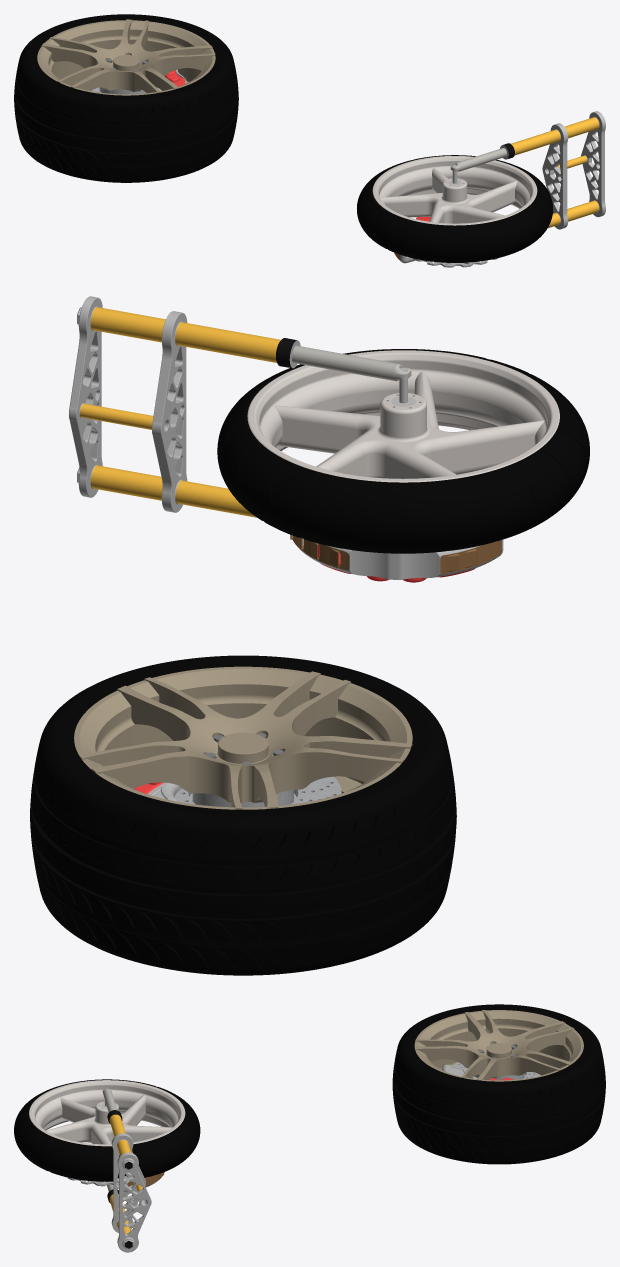
3 renders of one model, top to bottom at view 1: azimuth 30°, elevation 25°; view 2: azimuth 150°, elevation 25°; view 3: azimuth 270°, elevation 25°, orthographic. The views are drawn at different scales.
Visible parts, largest first — view 1: mesh_29_instance_0, f5931b2d-6b37-47ed-9786-adccfeb20e5e, mesh_30_instance_0, 41e6321a-a9ee-49ff-a9fd-625032fe2096; view 2: mesh_29_instance_0, f5931b2d-6b37-47ed-9786-adccfeb20e5e, mesh_30_instance_0, 41e6321a-a9ee-49ff-a9fd-625032fe2096, 6046186d-a965-4a3a-9ae2-bdf7fab2823f, mesh_17_instance_0, 95139e69-7985-4f4e-8ac2-70dadb87f658, 4c1a7346-86db-4c4c-add3-331c59ebb05a; view 3: mesh_29_instance_0, f5931b2d-6b37-47ed-9786-adccfeb20e5e, mesh_30_instance_0, 41e6321a-a9ee-49ff-a9fd-625032fe2096.
Part boxes in pixels (left/top/right/bottom): mesh_29_instance_0: left=14, top=14, right=238, bottom=182; f5931b2d-6b37-47ed-9786-adccfeb20e5e: left=357, top=155, right=552, bottom=262; mesh_30_instance_0: left=37, top=19, right=215, bottom=95; 41e6321a-a9ee-49ff-a9fd-625032fe2096: left=450, top=111, right=605, bottom=229; mesh_29_instance_0: left=30, top=655, right=456, bottom=975; f5931b2d-6b37-47ed-9786-adccfeb20e5e: left=217, top=349, right=589, bottom=553; mesh_30_instance_0: left=74, top=666, right=412, bottom=809; 41e6321a-a9ee-49ff-a9fd-625032fe2096: left=68, top=296, right=411, bottom=517; 6046186d-a965-4a3a-9ae2-bdf7fab2823f: left=294, top=538, right=503, bottom=579; mesh_17_instance_0: left=174, top=776, right=341, bottom=807; 95139e69-7985-4f4e-8ac2-70dadb87f658: left=440, top=540, right=501, bottom=573; 4c1a7346-86db-4c4c-add3-331c59ebb05a: left=290, top=535, right=349, bottom=569; mesh_29_instance_0: left=392, top=1004, right=605, bottom=1164; f5931b2d-6b37-47ed-9786-adccfeb20e5e: left=14, top=1079, right=200, bottom=1181; mesh_30_instance_0: left=414, top=1010, right=583, bottom=1081; 41e6321a-a9ee-49ff-a9fd-625032fe2096: left=102, top=1089, right=151, bottom=1252.
Bounding box in the file's own units: 1.22 × 0.3181 × 1.73.
Materials: 20 (4 with a texture image).
